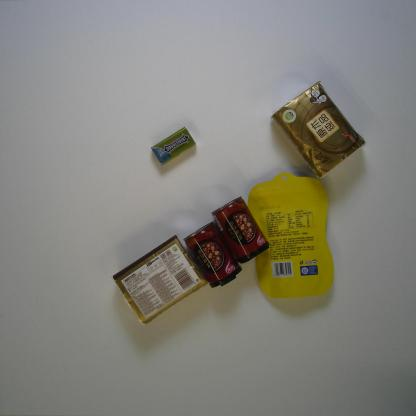Canned Food: (183, 219, 242, 290), (212, 195, 271, 265)
Dried Fruit: (245, 171, 334, 302)
Gum: (149, 125, 199, 166)
Tissue: (268, 80, 367, 180), (110, 233, 210, 328)
